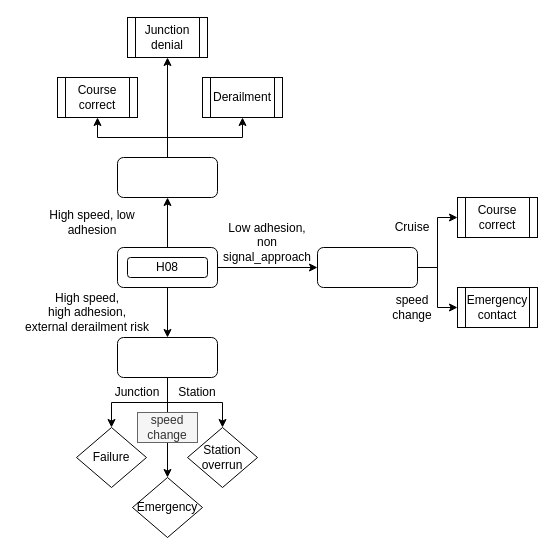
The diagram is 555 pixels wide and 555 high, and some of its shapes have lost their labels. The centre of each missing label's shape, as x and y in pixels:
"H08-F1" belongs at (x=167, y=177).
"H08-F2" belongs at (x=167, y=357).
"H08-F3" belongs at (x=367, y=267).
